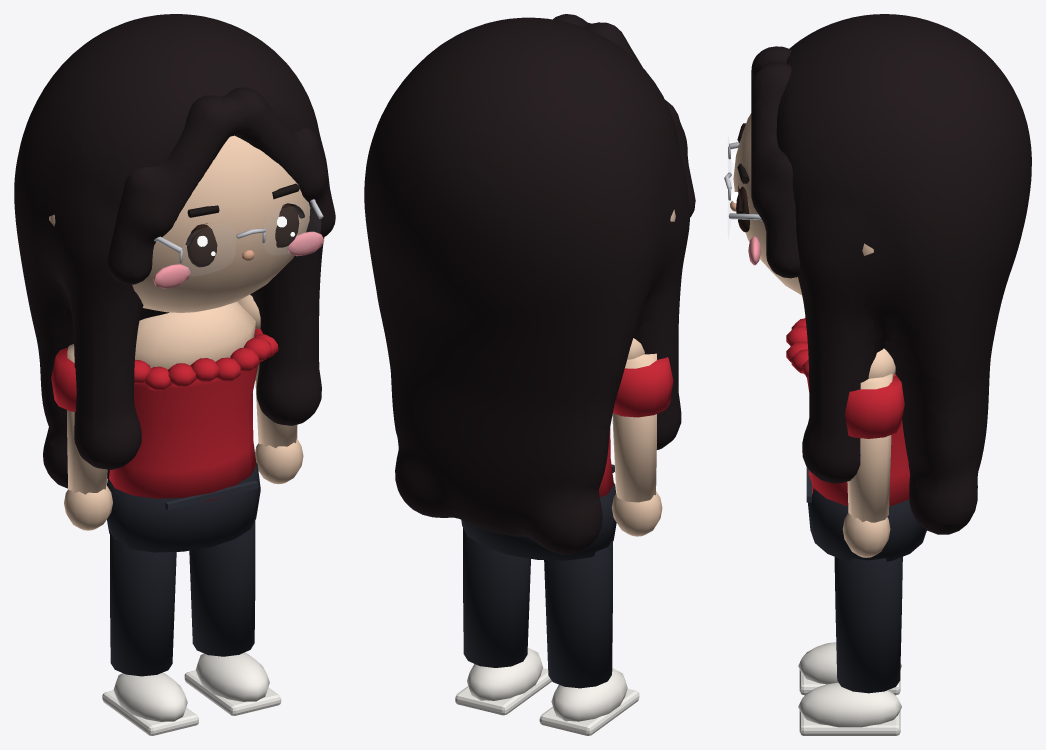
File: zena_date.glb
The picture shows the model from 3 angles, left to right: view 1: azimuth 30°, elevation 25°; view 2: azimuth 150°, elevation 25°; view 3: azimuth 270°, elevation 25°; orthographic projection. The views are drawn at different scales.
Visible parts, largest first — view 1: zena_hair_main.001, zena_hair_bangs.001, zena_head.001, zena_red_top, zena_legR.001, zena_hips.001, zena_legL.001, zena_chest_skin, zena_shoeR.001, zena_shoeL.001, zena_armR.001, zena_handR.001 (+12 smaller); view 2: zena_hair_main.001, zena_legR.001, zena_legL.001, zena_armR.001, zena_hips.001, zena_puffR, zena_shoeR.001, zena_shoeL.001, zena_hair_bangs.001, zena_handR.001, zena_soleR.001, zena_soleL.001; view 3: zena_hair_main.001, zena_legL.001, zena_hair_bangs.001, zena_hips.001, zena_shoeL.001, zena_armL.001, zena_puffL, zena_red_top, zena_head.001, zena_handL.001, zena_shoeR.001, zena_soleL.001 (+1 smaller).
Boxes of the visible parts, x1=… form: zena_hair_main.001: x1=14, y1=14, x2=329, y2=488; zena_hair_bangs.001: x1=107, y1=87, x2=335, y2=284; zena_head.001: x1=132, y1=135, x2=310, y2=312; zena_red_top: x1=109, y1=366, x2=257, y2=502; zena_legR.001: x1=110, y1=532, x2=176, y2=676; zena_hips.001: x1=107, y1=463, x2=260, y2=552; zena_legL.001: x1=189, y1=521, x2=255, y2=656; zena_chest_skin: x1=135, y1=301, x2=255, y2=369; zena_shoeR.001: x1=113, y1=672, x2=187, y2=721; zena_shoeL.001: x1=195, y1=652, x2=269, y2=701; zena_armR.001: x1=67, y1=344, x2=107, y2=494; zena_handR.001: x1=64, y1=485, x2=112, y2=530; zena_hair_main.001: x1=364, y1=17, x2=689, y2=554; zena_legR.001: x1=544, y1=539, x2=612, y2=688; zena_legL.001: x1=463, y1=528, x2=530, y2=667; zena_armR.001: x1=612, y1=353, x2=656, y2=502; zena_hips.001: x1=461, y1=482, x2=616, y2=560; zena_puffR: x1=613, y1=357, x2=673, y2=417; zena_shoeR.001: x1=551, y1=668, x2=627, y2=721; zena_shoeL.001: x1=467, y1=647, x2=543, y2=700; zena_hair_bangs.001: x1=553, y1=14, x2=695, y2=217; zena_handR.001: x1=611, y1=491, x2=662, y2=536; zena_soleR.001: x1=539, y1=689, x2=639, y2=735; zena_soleL.001: x1=455, y1=668, x2=551, y2=715; zena_hair_main.001: x1=776, y1=14, x2=1031, y2=534; zena_legL.001: x1=834, y1=556, x2=902, y2=693; zena_hair_bangs.001: x1=751, y1=46, x2=800, y2=278; zena_hips.001: x1=808, y1=486, x2=926, y2=561; zena_shoeL.001: x1=798, y1=682, x2=901, y2=727; zena_armL.001: x1=847, y1=373, x2=892, y2=522; zena_puffL: x1=845, y1=376, x2=904, y2=438; zena_red_top: x1=807, y1=377, x2=909, y2=505; zena_head.001: x1=733, y1=113, x2=802, y2=295; zena_handL.001: x1=842, y1=513, x2=890, y2=557; zena_shoeR.001: x1=798, y1=642, x2=901, y2=684; zena_soleL.001: x1=799, y1=710, x2=900, y2=735.
Bounding box in the file's own units: 0.5992 × 1.41 × 0.5799.
